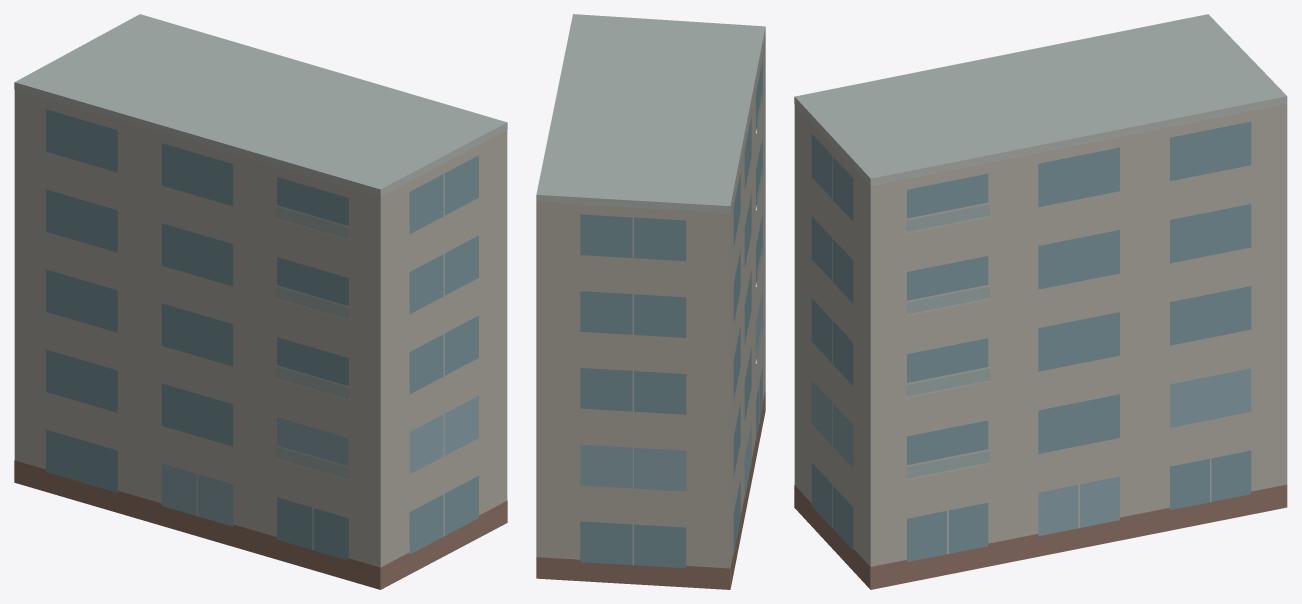
The model's file is survey-upis-32731847.glb.
3 renders of one model, left to right at view 1: azimuth 30°, elevation 25°; view 2: azimuth 150°, elevation 25°; view 3: azimuth 270°, elevation 25°, orthographic. The views are drawn at different scales.
Visible parts, largest first — view 1: survey-upis-32731847.tmp; view 2: survey-upis-32731847.tmp; view 3: survey-upis-32731847.tmp.
Part boxes in pixels (<box>): survey-upis-32731847.tmp: <box>14,14,507,589</box>; survey-upis-32731847.tmp: <box>536,14,765,589</box>; survey-upis-32731847.tmp: <box>794,14,1287,589</box>.
Bounding box in the file's own units: 11.17 × 13 × 14.13.
